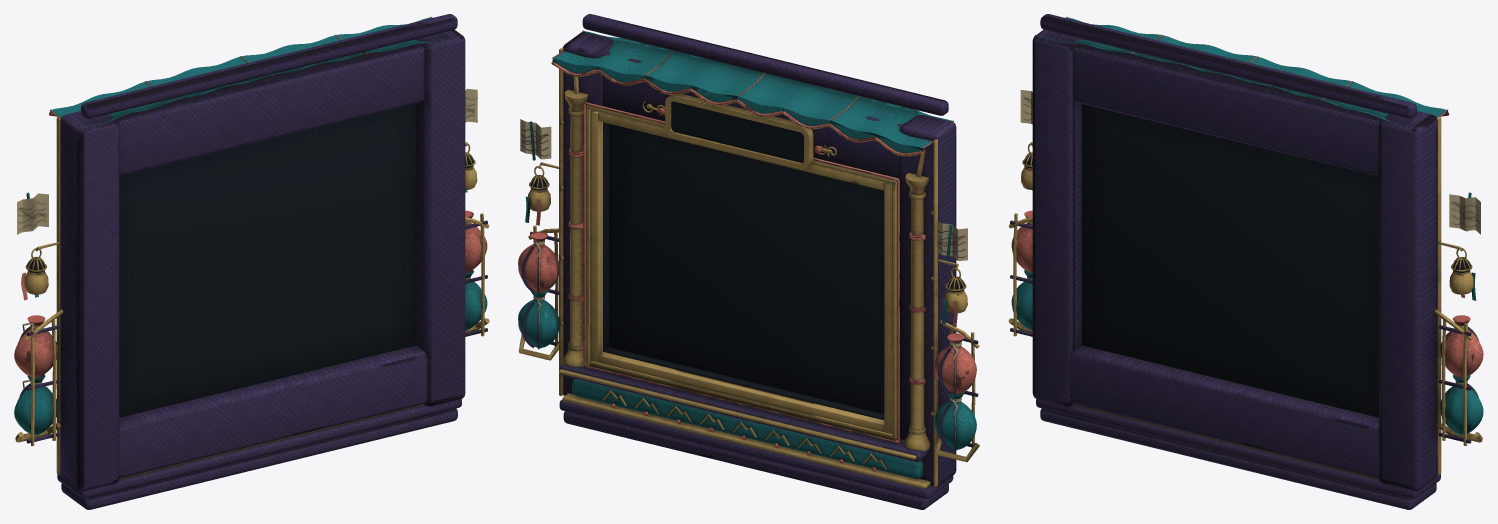
The picture shows the model from 3 angles, left to right: view 1: azimuth 30°, elevation 25°; view 2: azimuth 150°, elevation 25°; view 3: azimuth 330°, elevation 25°; orthographic projection. The views are drawn at different scales.
Visible parts, largest first — view 1: Violet_woven_foundation, Uniform_dark_inset, Teal_woven_canvas, Aged_brass_fittings, Coral_woven_cloth, Warm_route_chart; view 2: Uniform_dark_inset, Violet_woven_foundation, Aged_brass_fittings, Teal_woven_canvas, Coral_woven_cloth, Warm_route_chart; view 3: Violet_woven_foundation, Uniform_dark_inset, Teal_woven_canvas, Aged_brass_fittings, Coral_woven_cloth, Warm_route_chart.
Boxes of the visible parts, <box> form: Violet_woven_foundation: <box>20,14,487,509</box>; Uniform_dark_inset: <box>27,104,473,417</box>; Teal_woven_canvas: <box>14,17,487,435</box>; Aged_brass_fittings: <box>15,116,489,479</box>; Coral_woven_cloth: <box>14,17,487,377</box>; Warm_route_chart: <box>17,89,477,396</box>; Uniform_dark_inset: <box>530,101,964,420</box>; Violet_woven_foundation: <box>521,14,978,509</box>; Aged_brass_fittings: <box>518,47,979,488</box>; Teal_woven_canvas: <box>518,31,976,478</box>; Coral_woven_cloth: <box>518,30,976,471</box>; Warm_route_chart: <box>520,119,967,449</box>; Violet_woven_foundation: <box>1010,14,1478,509</box>; Uniform_dark_inset: <box>1024,104,1470,417</box>; Teal_woven_canvas: <box>1011,17,1483,435</box>; Aged_brass_fittings: <box>1008,116,1482,479</box>; Coral_woven_cloth: <box>1011,17,1483,377</box>; Warm_route_chart: <box>1020,90,1480,397</box>.
Bounding box in the file's own units: 10.96 × 9 × 1.4.
Materials: 6 (6 with a texture image).
